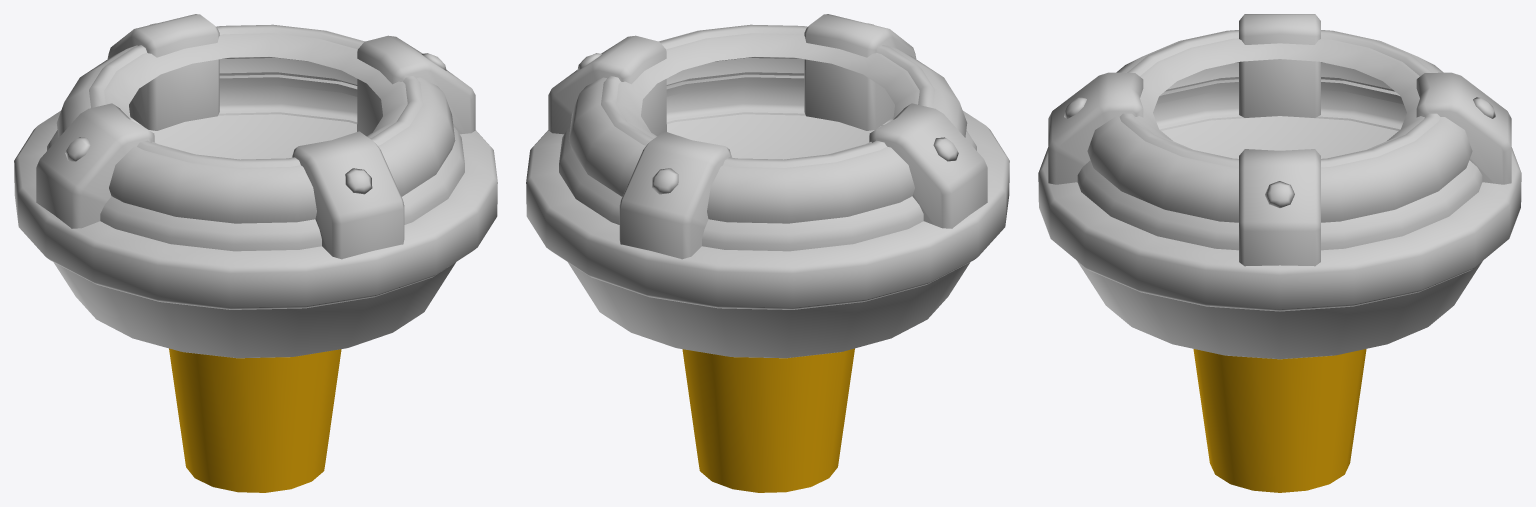
The model's file is trampoline_1_001.fbx.
3 views of the same model, side by side, from view 1: azimuth 30°, elevation 25°; view 2: azimuth 150°, elevation 25°; view 3: azimuth 270°, elevation 25° (orthographic).
Visible parts, largest first — view 1: trampoline_1_001; view 2: trampoline_1_001; view 3: trampoline_1_001.
Part boxes in pixels (box(x1,y1,x2,y2)): trampoline_1_001: box(14, 14, 497, 492); trampoline_1_001: box(526, 14, 1009, 492); trampoline_1_001: box(1038, 14, 1521, 492).
Bounding box in the file's own units: 266 × 266 × 228.
